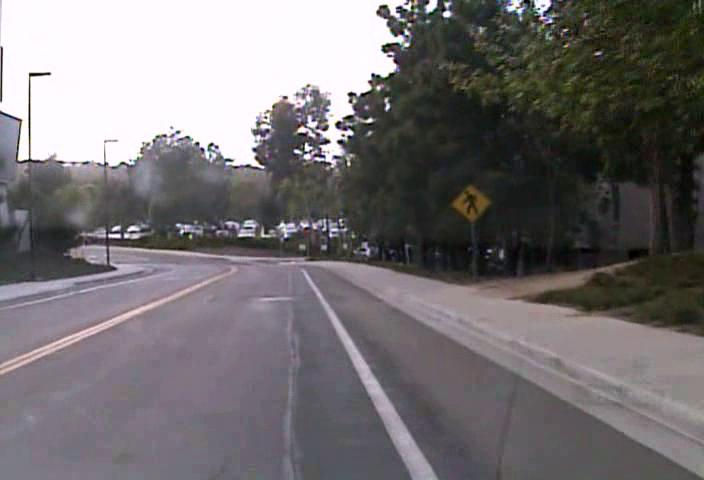pedestrianCrossing: (450, 182, 494, 223)
